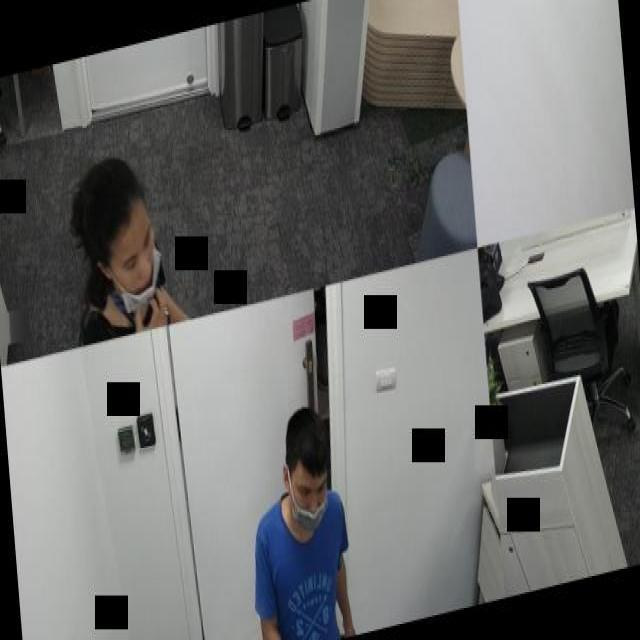hairnet: (117, 220, 162, 313), (293, 474, 327, 532)
